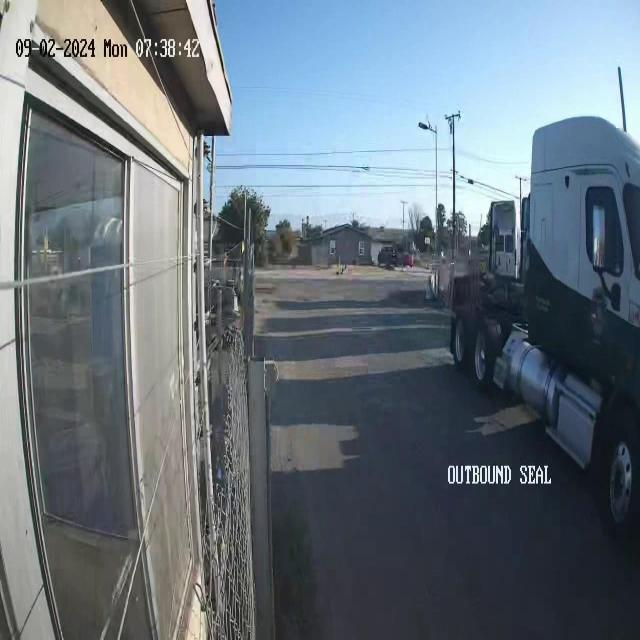TRUCK_IN: (447, 112, 639, 532)
